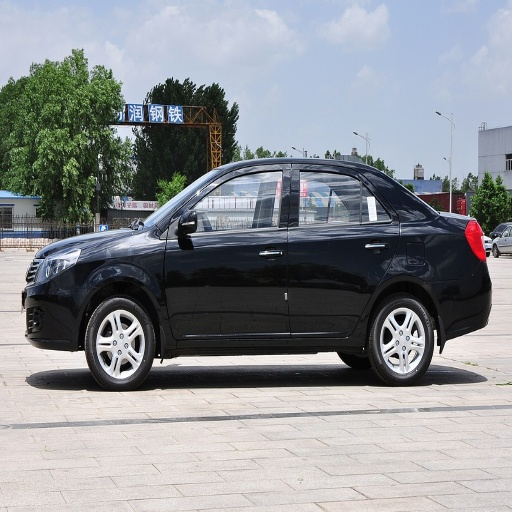back_left_door: (291, 161, 396, 337)
front_left_door: (165, 163, 290, 339)
